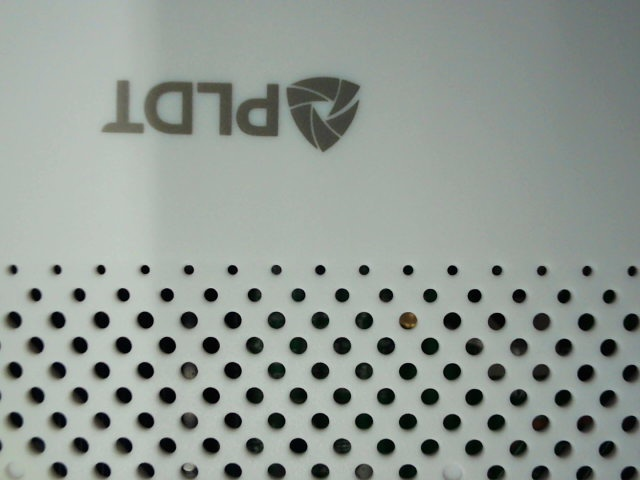BH_PLDT: (90, 62, 380, 165)
